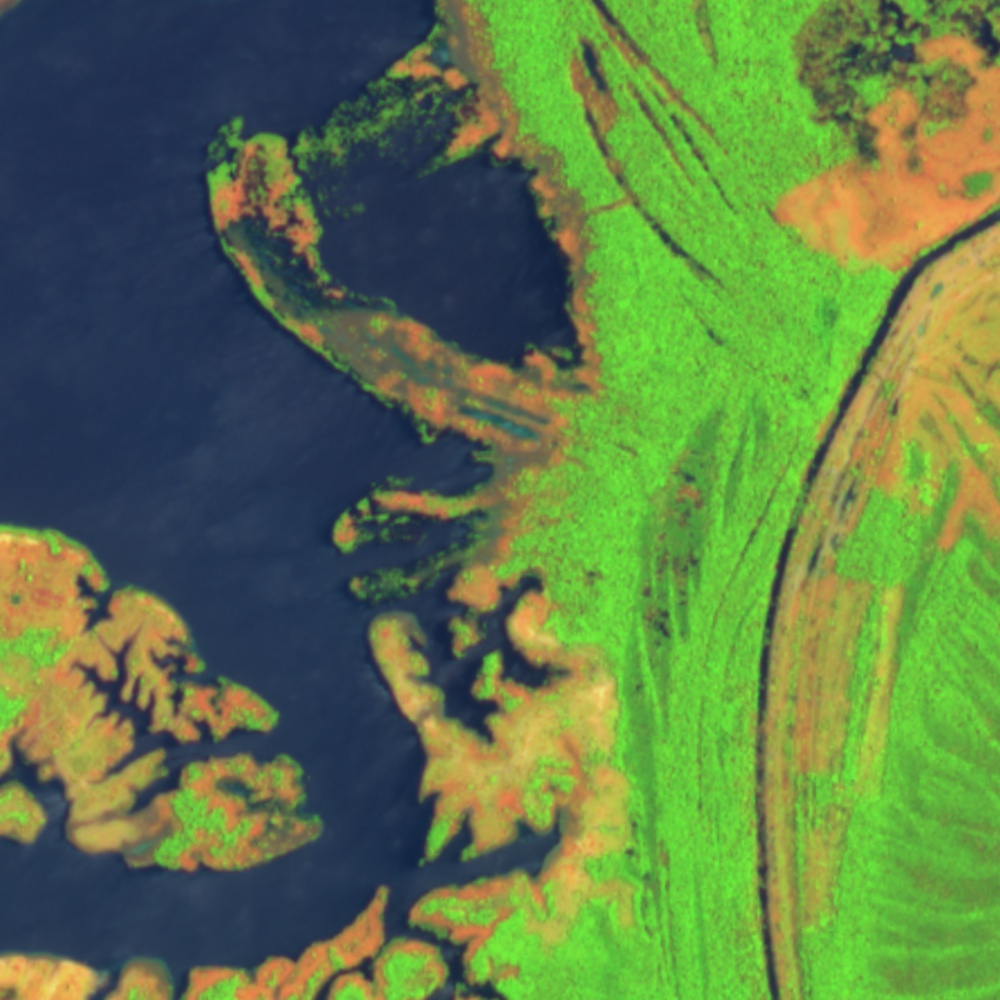legal: (324, 474, 650, 982), (207, 114, 579, 477), (1, 523, 319, 875), (765, 1, 1000, 277), (1, 880, 404, 1000), (565, 1, 728, 291), (342, 1, 527, 162), (633, 413, 736, 699)
